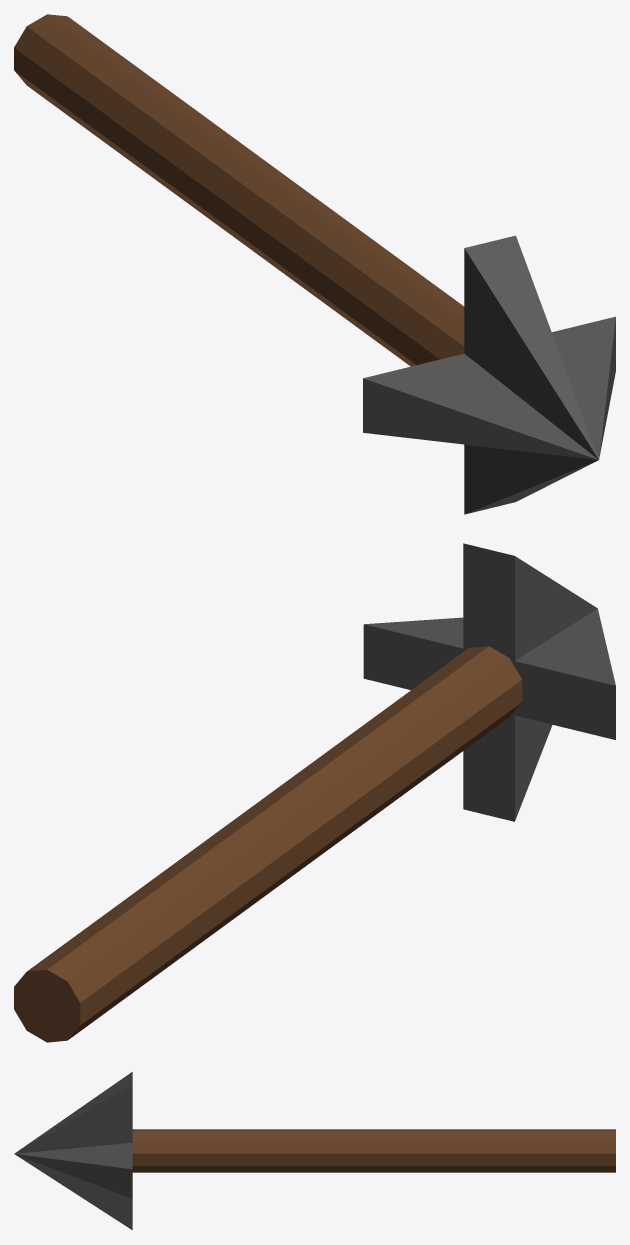
File: Arrow.fbx
3 views of the same model, one above another, from view 1: azimuth 30°, elevation 25°; view 2: azimuth 150°, elevation 25°; view 3: azimuth 270°, elevation 25° (orthographic). The views are drawn at different scales.
Parts seen in each view (by area): view 1: Arrow; view 2: Arrow; view 3: Arrow.
Boxes of the visible parts, left/top/right/bottom form: Arrow: left=14, top=14, right=615, bottom=514; Arrow: left=14, top=543, right=615, bottom=1042; Arrow: left=14, top=1072, right=615, bottom=1229.
Size of the model in its own units: 39.7 by 39.98 by 150.
